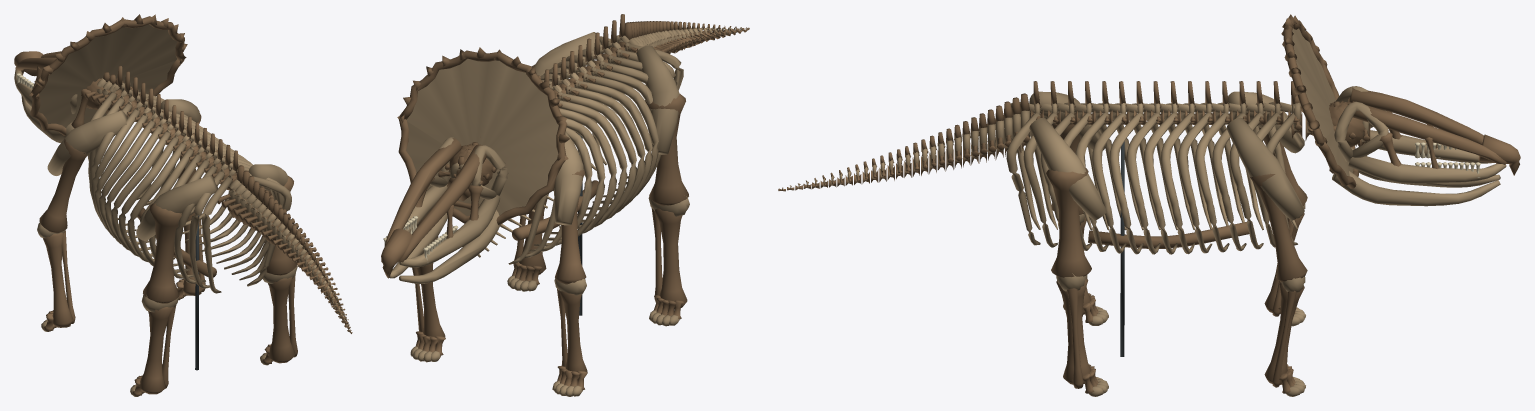
3 renders of one model, left to right at view 1: azimuth 30°, elevation 25°; view 2: azimuth 150°, elevation 25°; view 3: azimuth 270°, elevation 25°, orthographic. The views are drawn at different scales.
Parts seen in each view (by area): view 1: D04_SPEC_Fossil ridge_export, D04_SPEC_Fossil umber_export, D04_SPEC_Mount steel_export; view 2: D04_SPEC_Fossil ridge_export, D04_SPEC_Fossil umber_export, D04_SPEC_Ivory_export; view 3: D04_SPEC_Fossil ridge_export, D04_SPEC_Fossil umber_export, D04_SPEC_Mount steel_export.
Part boxes in pixels (left/top/right/bottom): D04_SPEC_Fossil ridge_export: left=14, top=24, right=350, bottom=396; D04_SPEC_Fossil umber_export: left=14, top=14, right=352, bottom=395; D04_SPEC_Mount steel_export: left=195, top=214, right=199, bottom=370; D04_SPEC_Fossil ridge_export: left=389, top=27, right=747, bottom=396; D04_SPEC_Fossil umber_export: left=381, top=14, right=749, bottom=389; D04_SPEC_Ivory_export: left=383, top=216, right=458, bottom=262; D04_SPEC_Fossil ridge_export: left=782, top=28, right=1506, bottom=396; D04_SPEC_Fossil umber_export: left=778, top=14, right=1520, bottom=393; D04_SPEC_Mount steel_export: left=1120, top=141, right=1124, bottom=356.
Bounding box in the file's own units: 0.5831 × 1.02 × 2.06.
